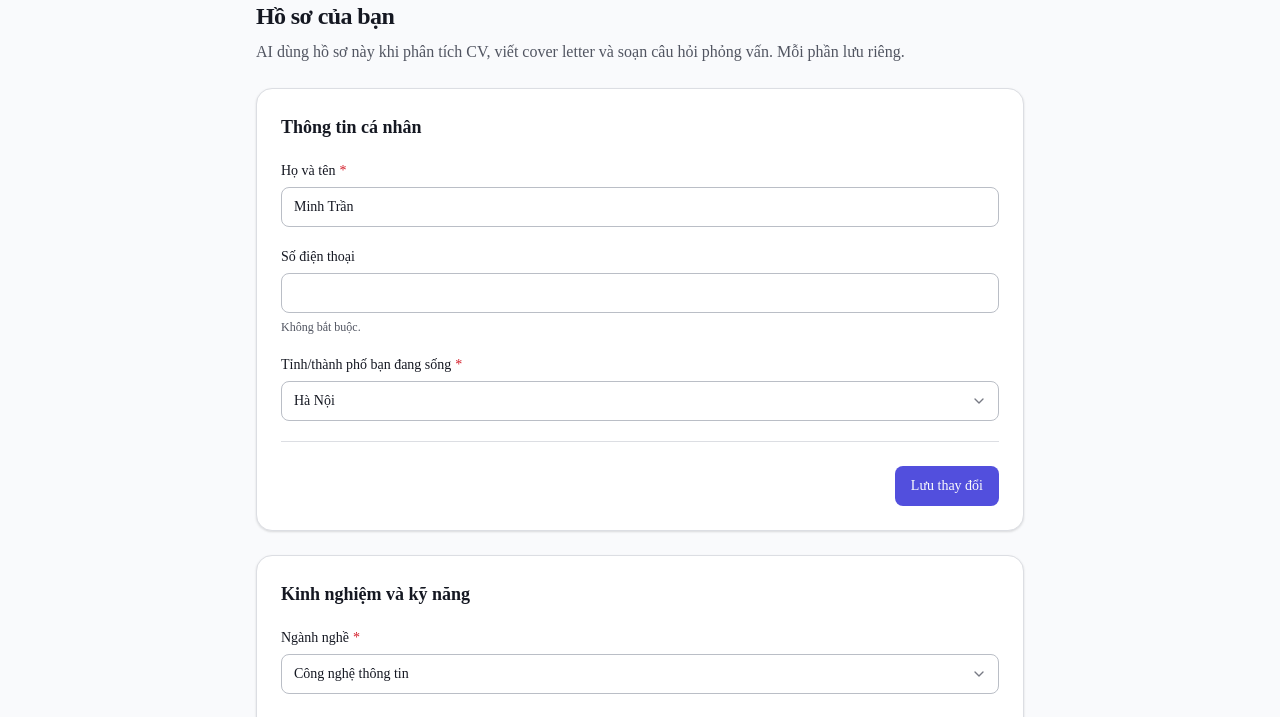
Scenario: ProfileView › saves one section of the profile on its own
Replace the text in the field labelled "Họ và tên *" with "Minh Trần Văn" at (640, 207), box [281, 187, 999, 227]
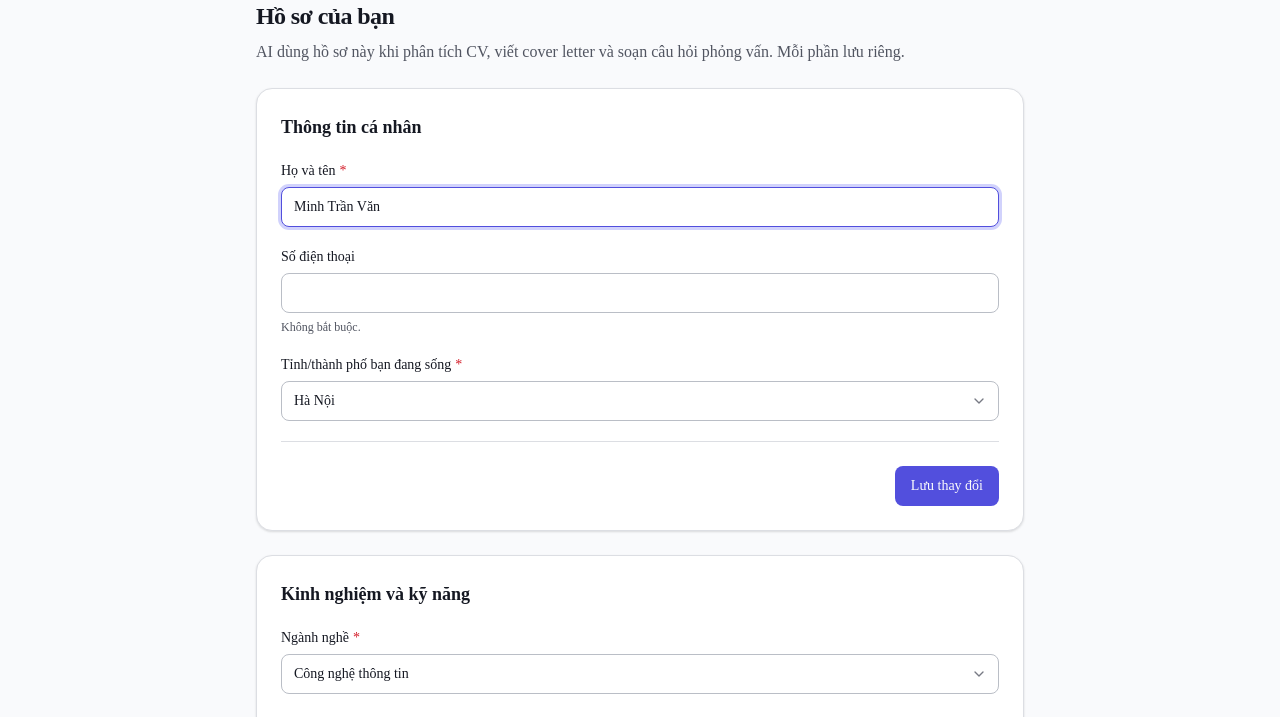
Click the button "Lưu thay đổi" at (947, 486), box [895, 466, 999, 506]
(page scrolled)
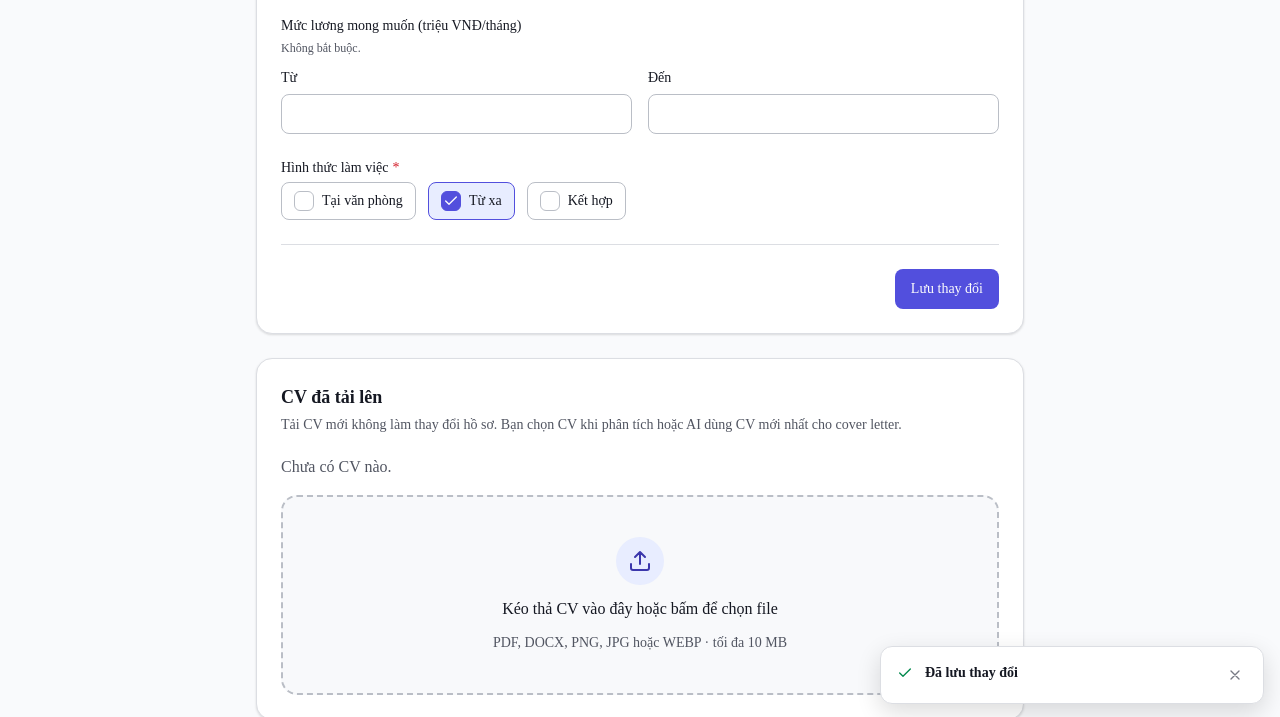
Expected: the text "Chưa có CV nào." is shown, [281, 458, 392, 475]
Expected: the text "Đã lưu thay đổi" is shown, [925, 665, 1018, 680]
